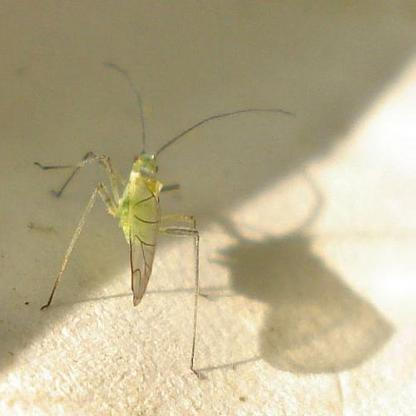aphid: (33, 52, 248, 374)
